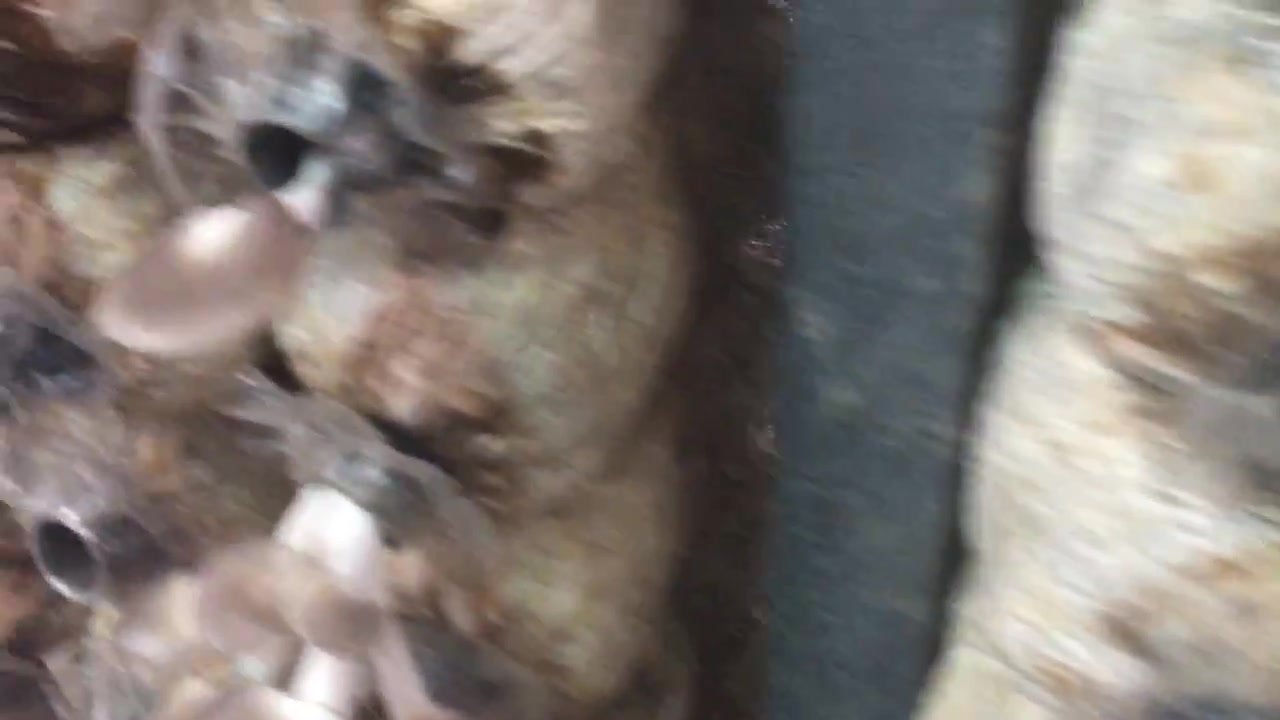nam: (89, 73, 395, 356), (166, 438, 445, 720)
